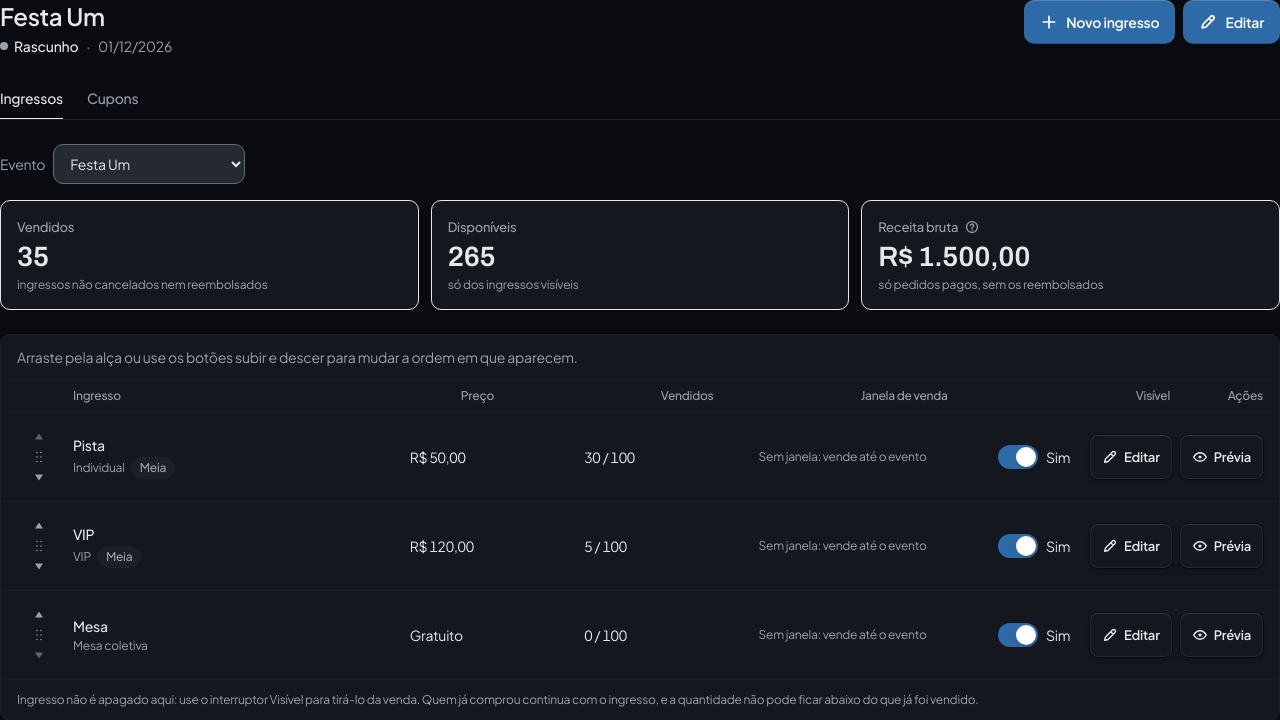
Test case: tela Ingressos › prévia abre com o selo Em breve da logo do produtor
Click the button with aria-label "Prévia de VIP" at (1221, 546), box [1180, 524, 1263, 568]
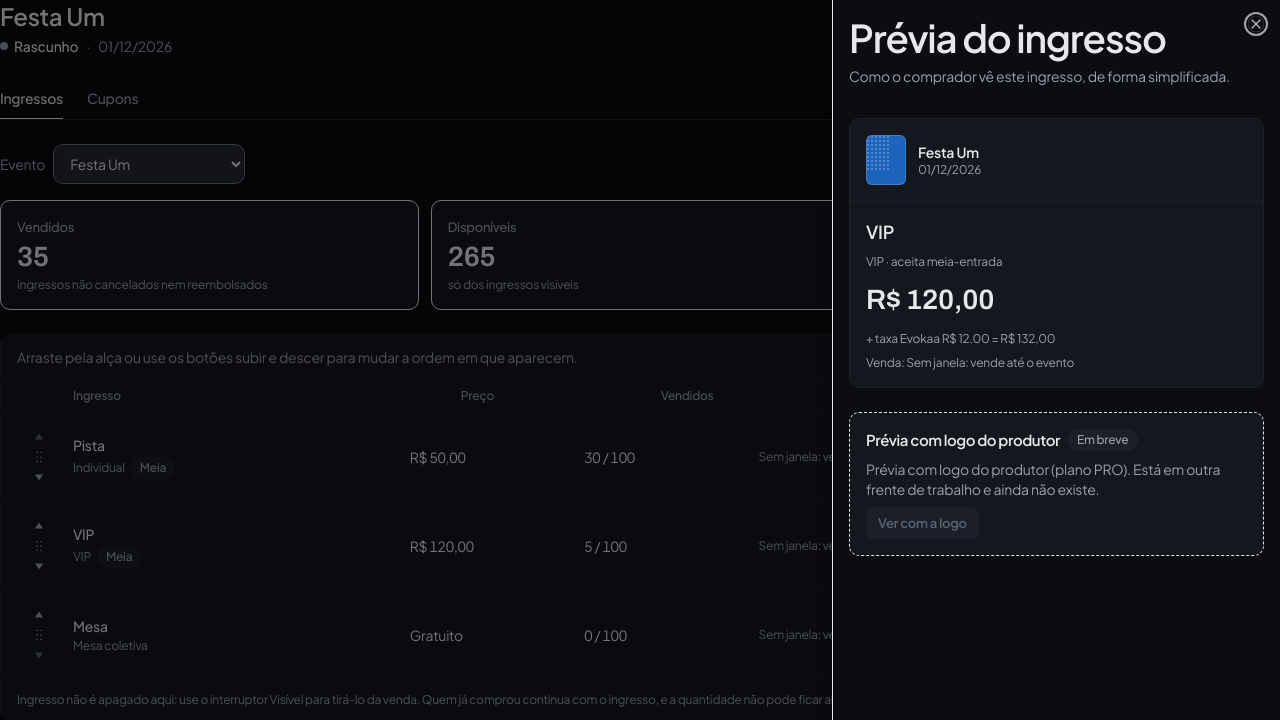
Check: the element named "Ingresso VIP" is shown, box [849, 118, 1264, 388]
Check: the text "Prévia com logo do produtor (plano PRO)" is shown, box [866, 460, 1220, 498]
